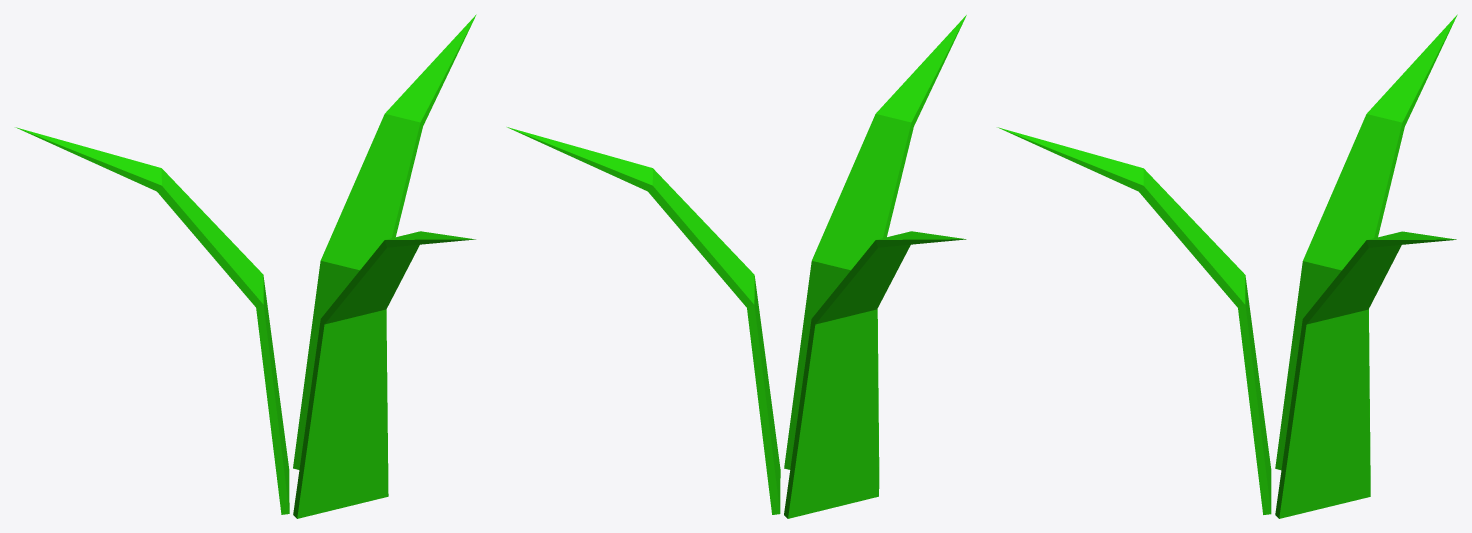
The model's file is greengrass.glb.
The picture shows the model from 3 angles, left to right: view 1: azimuth 30°, elevation 25°; view 2: azimuth 150°, elevation 25°; view 3: azimuth 270°, elevation 25°; orthographic projection.
Parts seen in each view (by area): view 1: Low_Poly_Grass_001; view 2: Low_Poly_Grass_001; view 3: Low_Poly_Grass_001.
Part boxes in pixels (bbox=[...]): Low_Poly_Grass_001: bbox=[15, 14, 476, 518]; Low_Poly_Grass_001: bbox=[507, 15, 966, 518]; Low_Poly_Grass_001: bbox=[997, 14, 1457, 518].
Size of the model in its own units: 0.4023 by 0.3043 by 0.3478.
